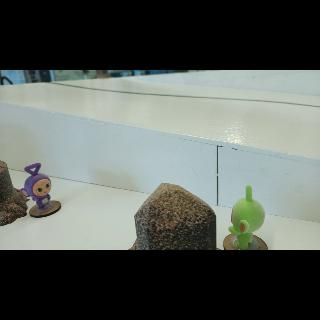teletubby: (228, 185, 265, 249), (21, 163, 51, 209)
